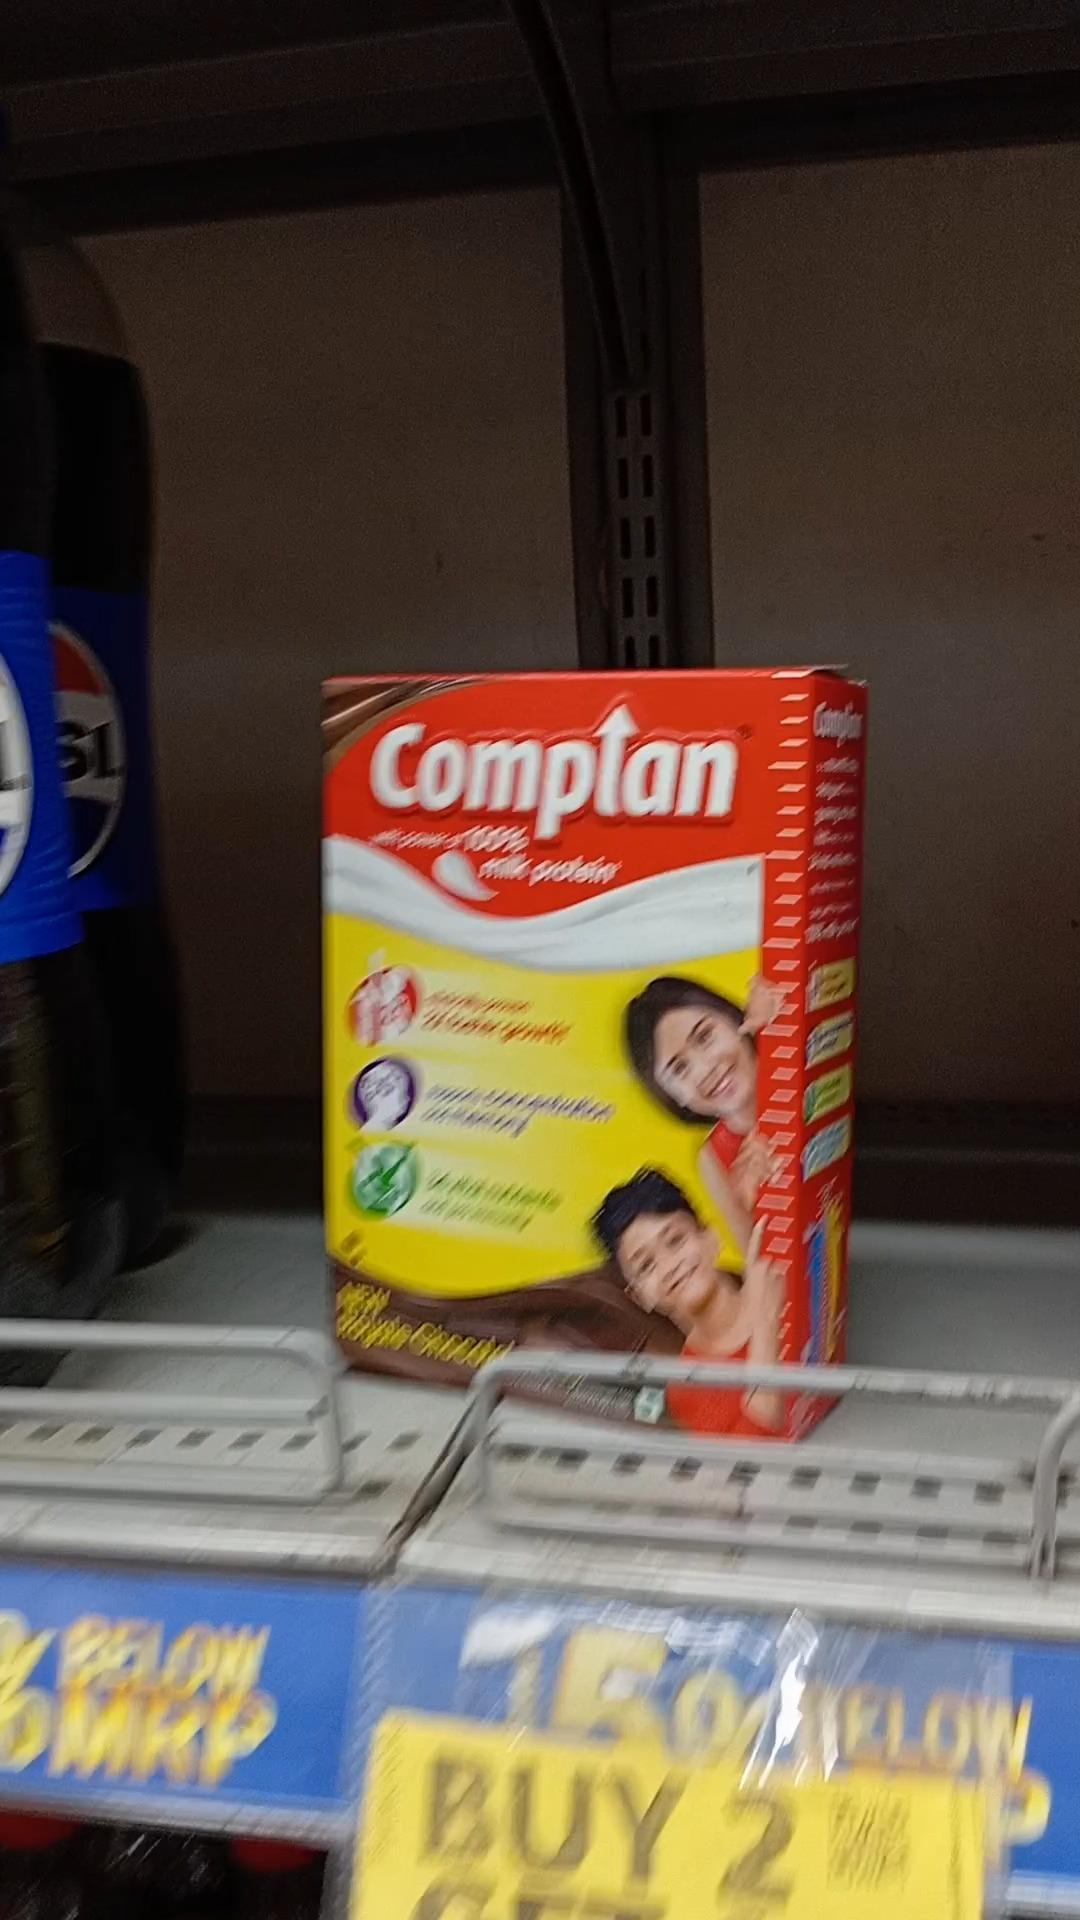COMPLAN_CHOCOLATE_200_GMS_PACK: (318, 684, 796, 1431)
